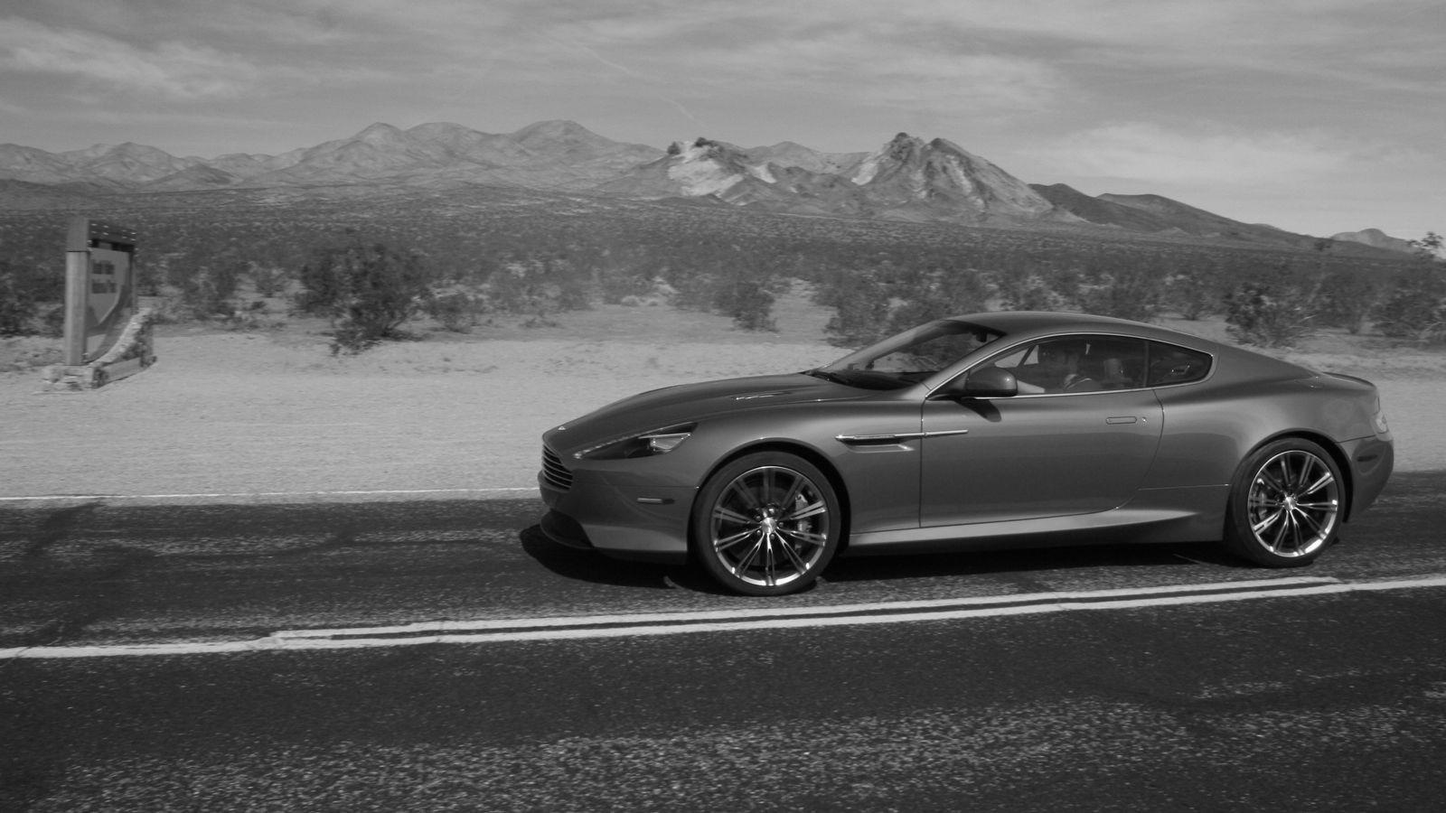car: (538, 314, 1404, 595)
